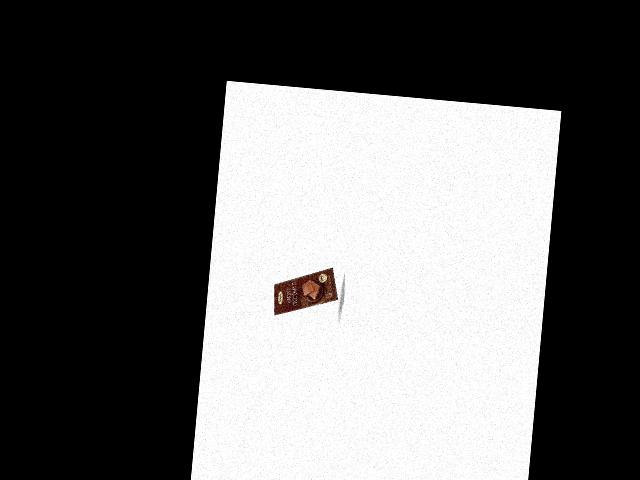chocolate: (270, 260, 343, 321)
